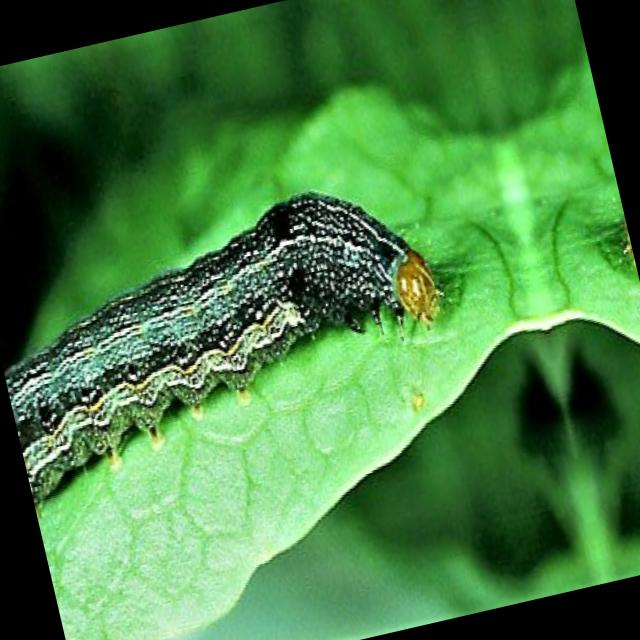Armyworm: (1, 159, 475, 527)
